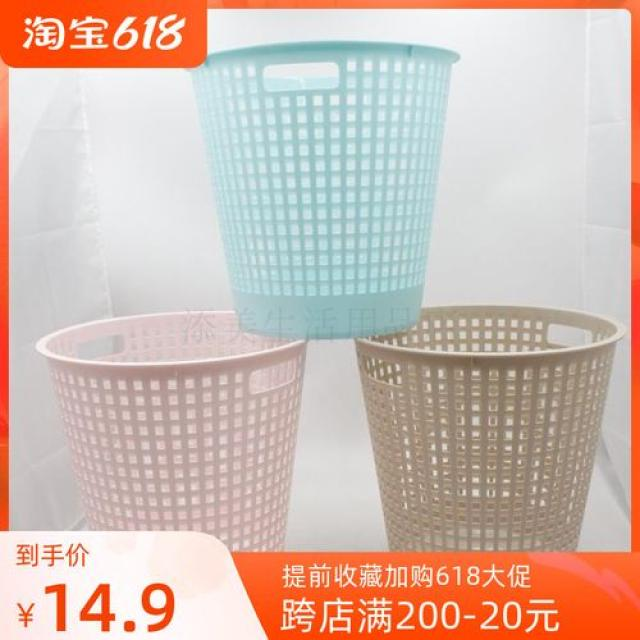dustbin: (181, 36, 466, 342), (31, 306, 313, 553), (352, 302, 628, 548)
